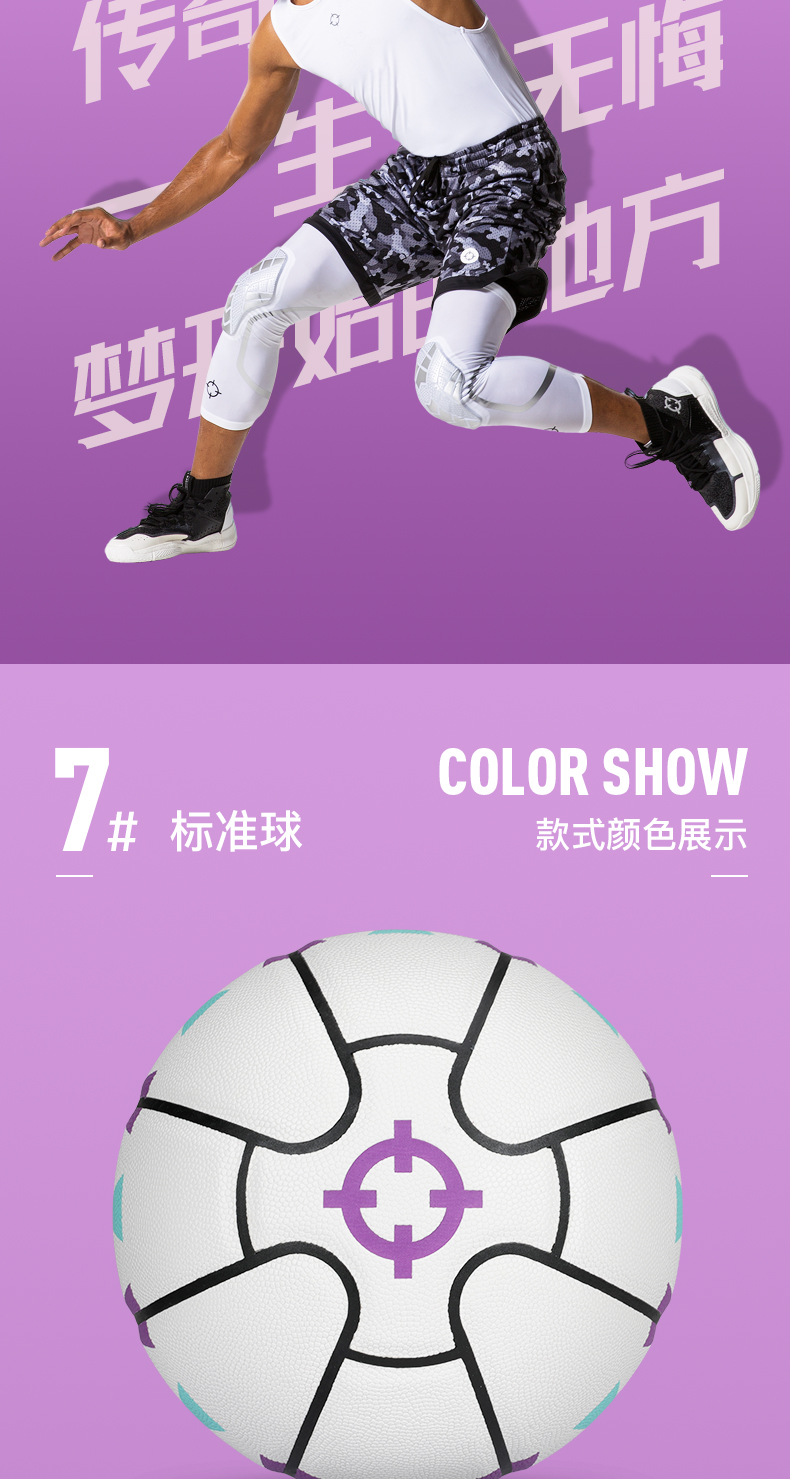ball: (113, 927, 682, 1479)
